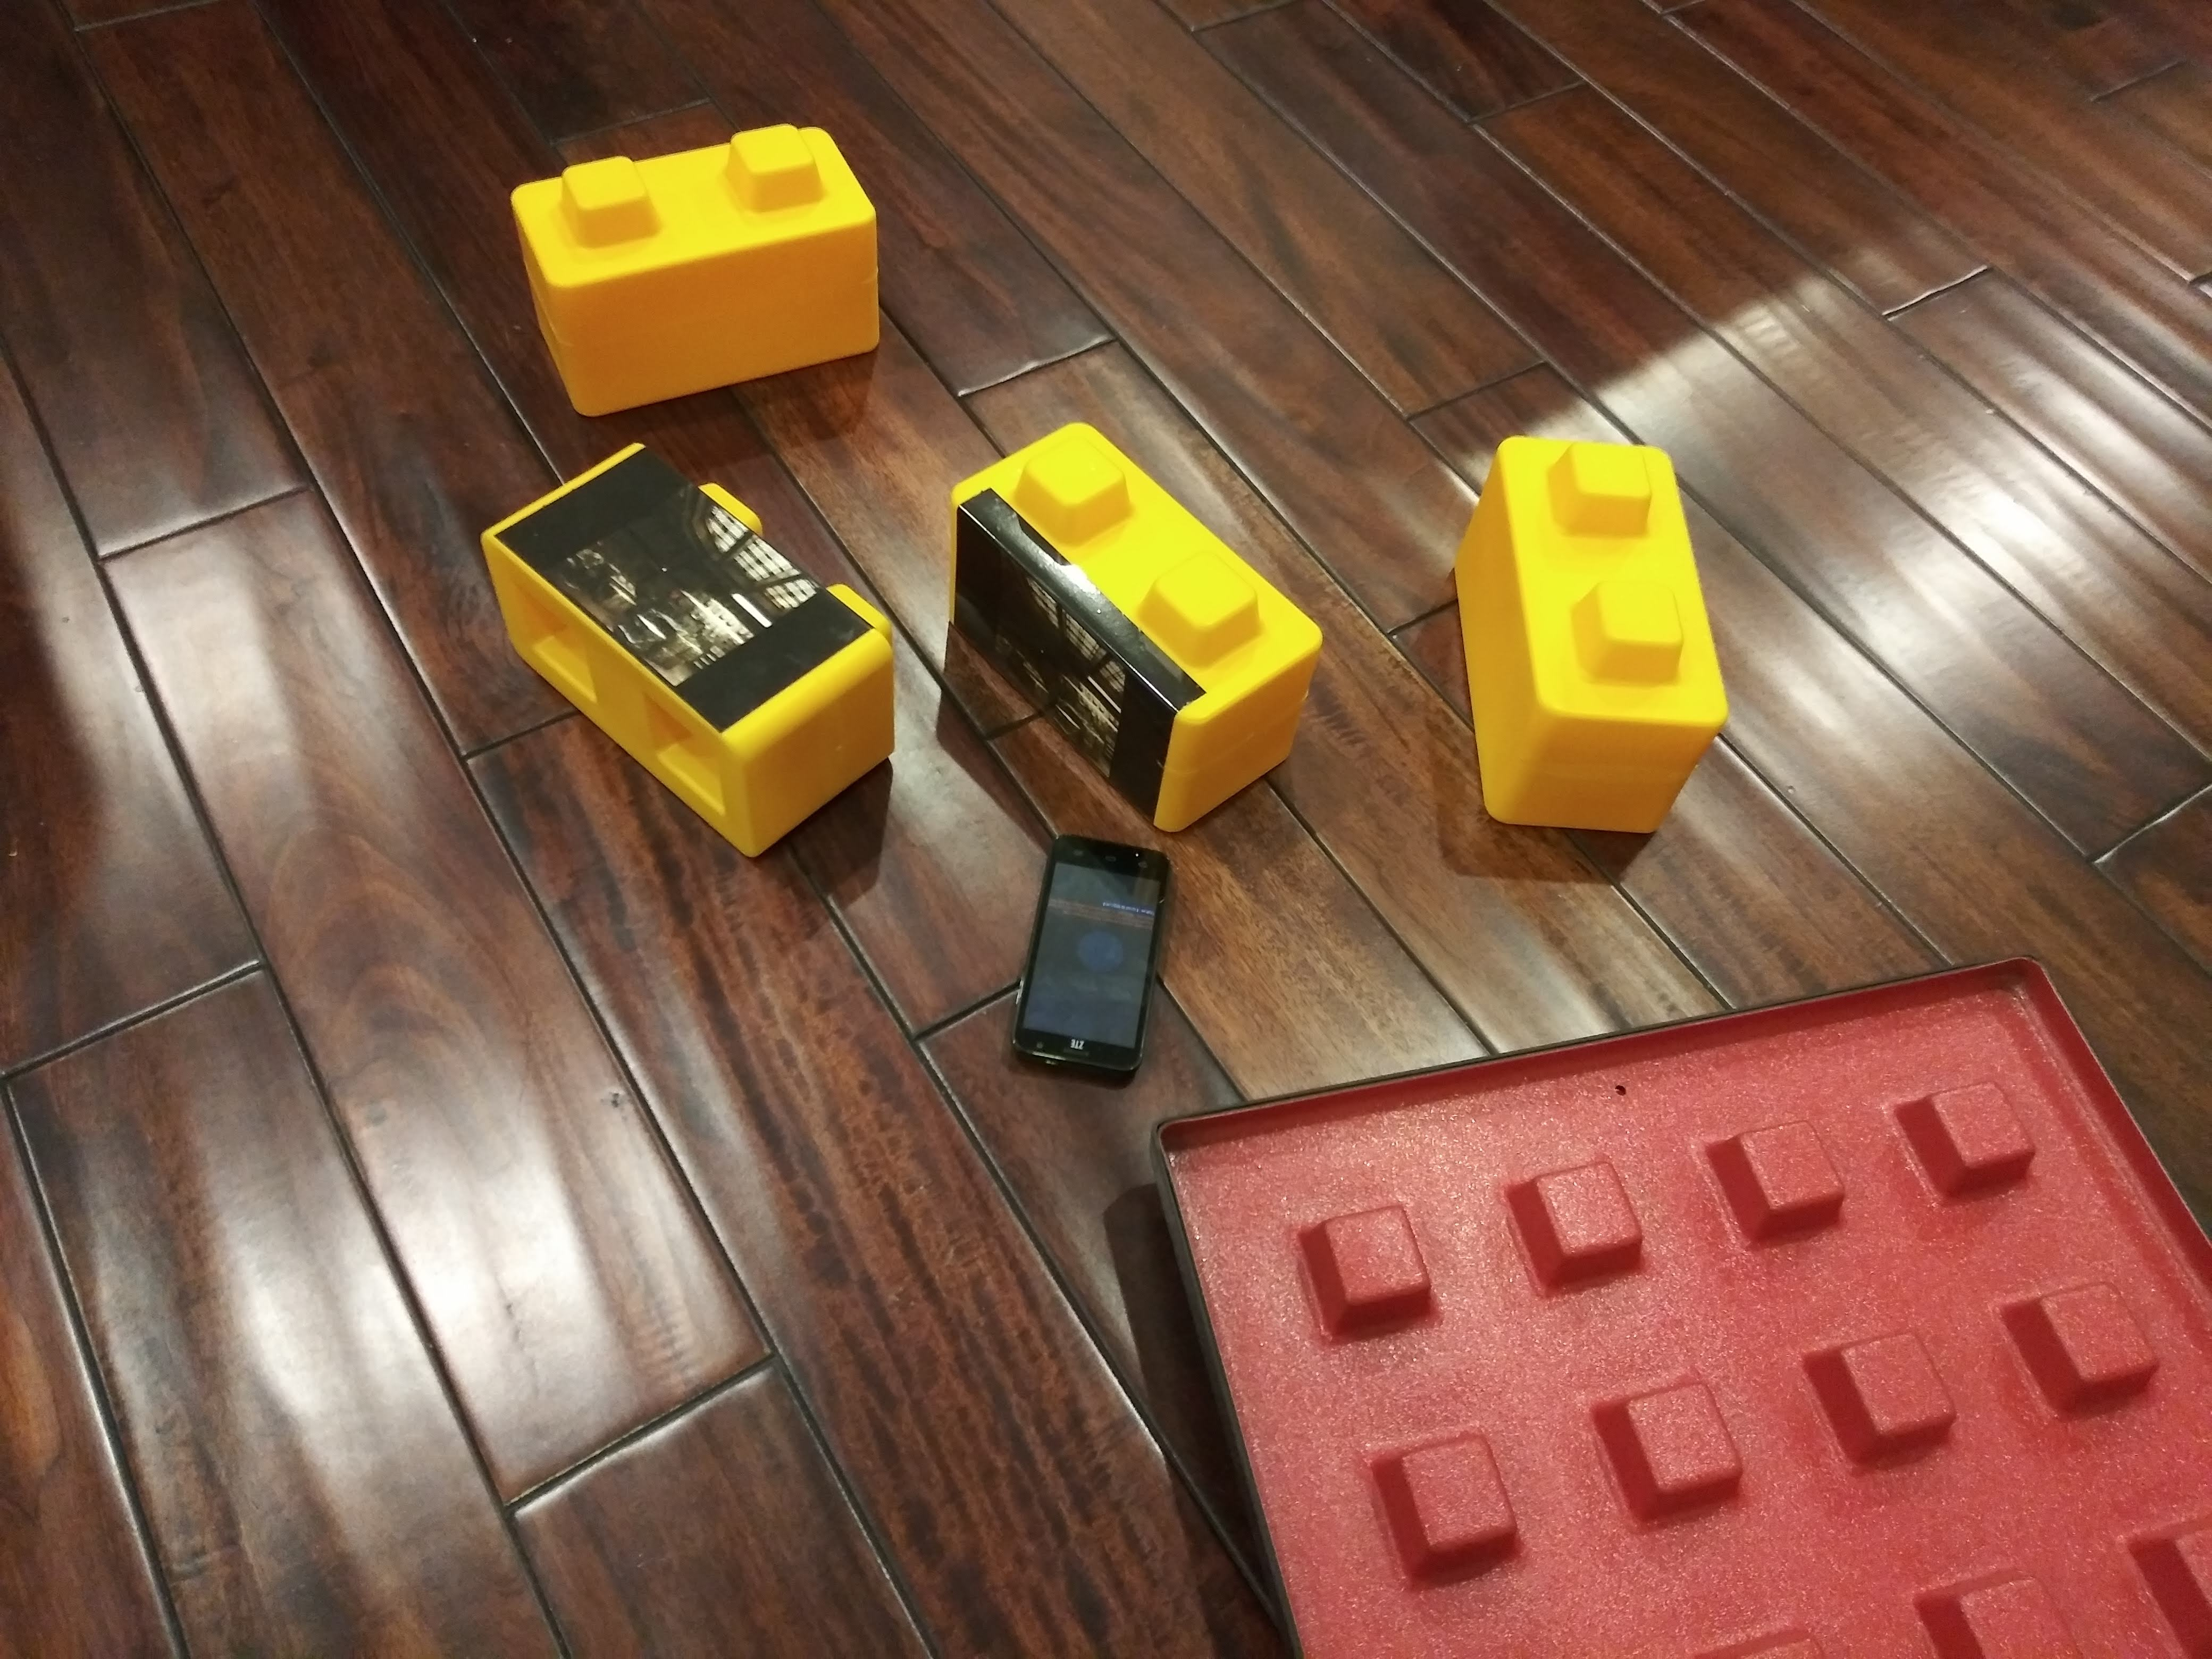skystone: (467, 462, 867, 810), (942, 462, 1296, 800)
stone: (1430, 437, 1731, 847), (479, 145, 911, 383)
